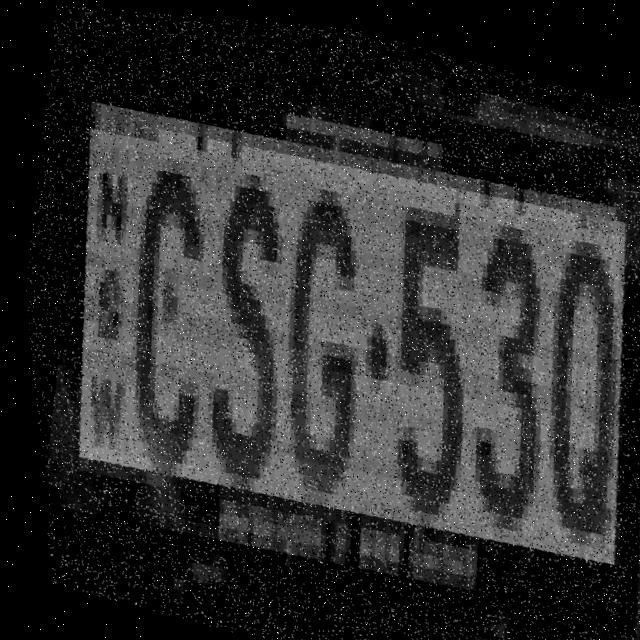LicensePlate: (0, 4, 640, 640)
